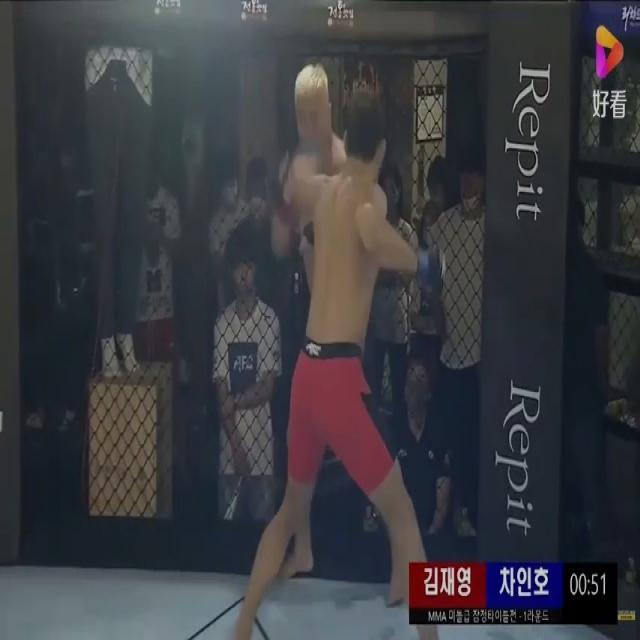fight: (202, 52, 434, 636)
